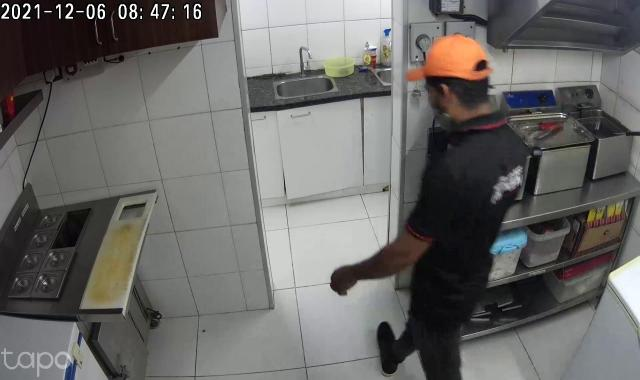no_hairnet: (406, 32, 496, 94)
